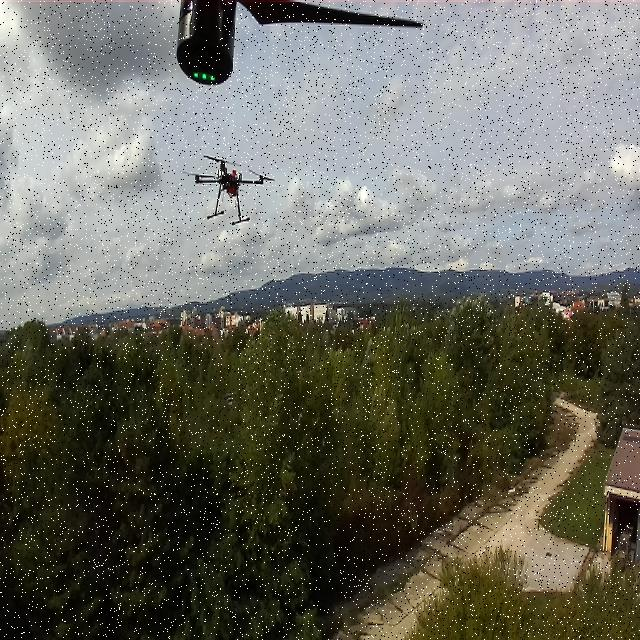UAV: (186, 150, 272, 230)
